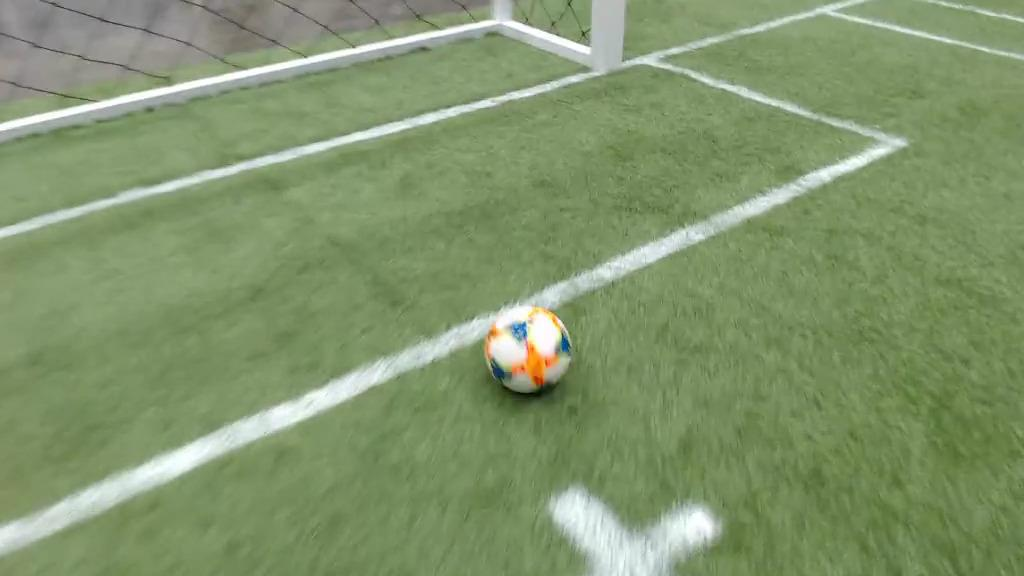ball: (478, 288, 584, 406)
